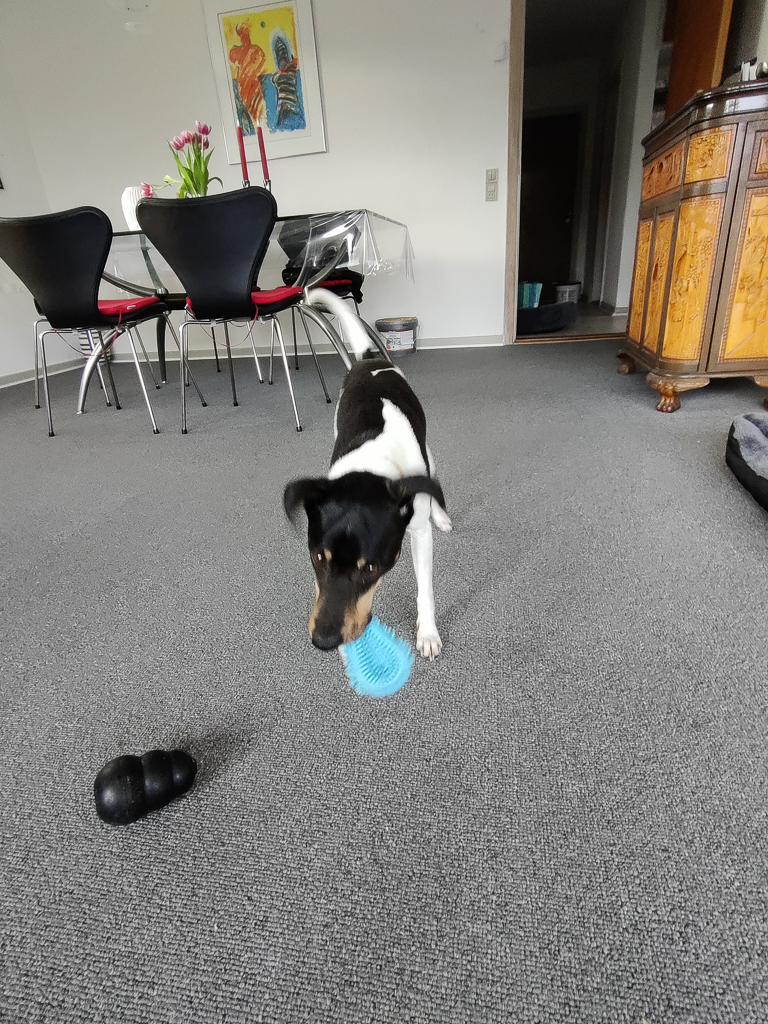Dog: (257, 271, 483, 716)
